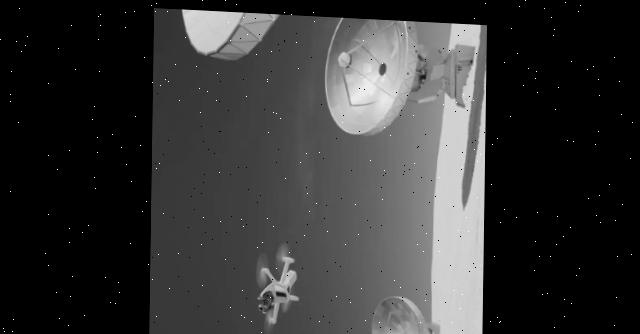drone: (253, 236, 300, 334)
